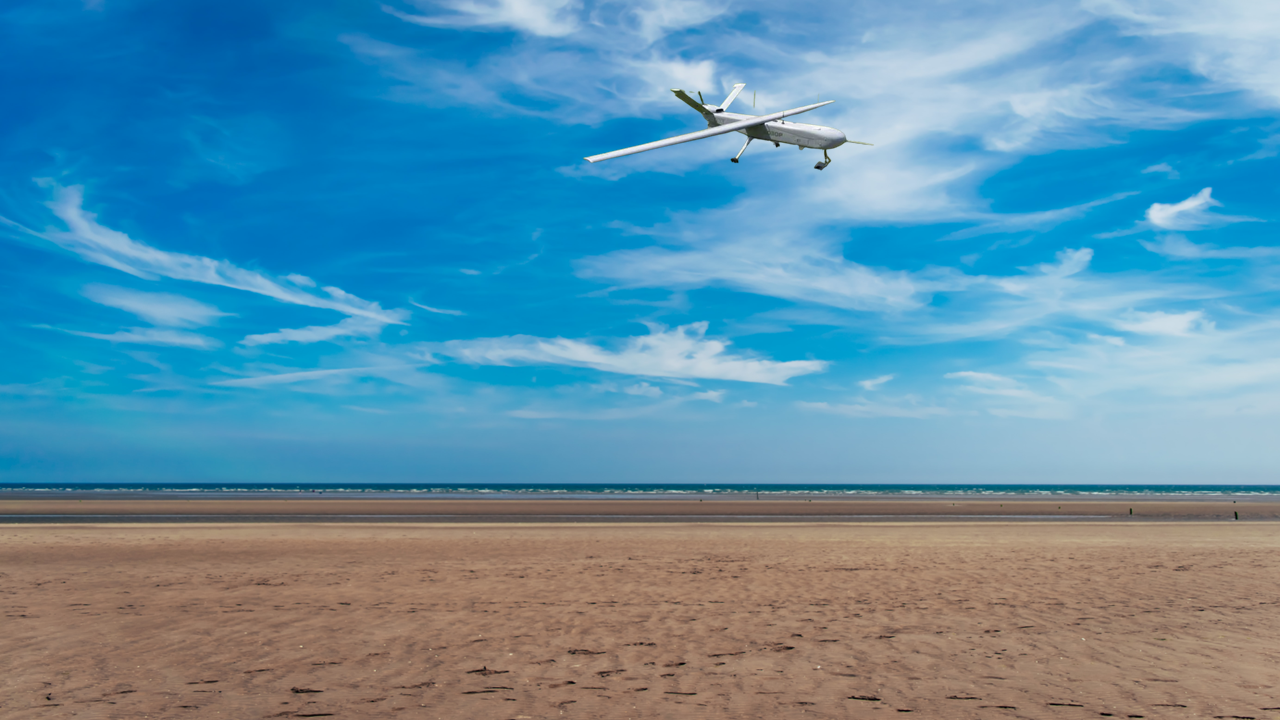military drone: (583, 83, 847, 171)
